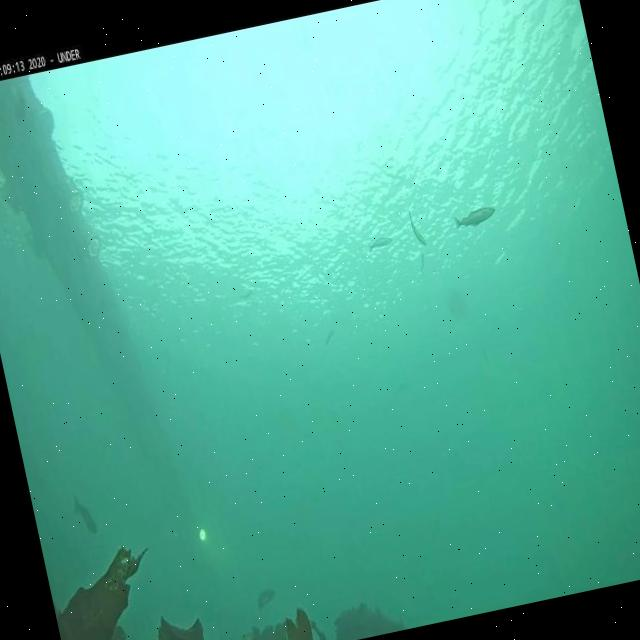fish: (68, 492, 98, 538), (453, 204, 499, 232), (408, 209, 428, 249), (367, 233, 395, 251), (256, 589, 278, 609), (416, 252, 428, 272), (322, 330, 336, 346)
